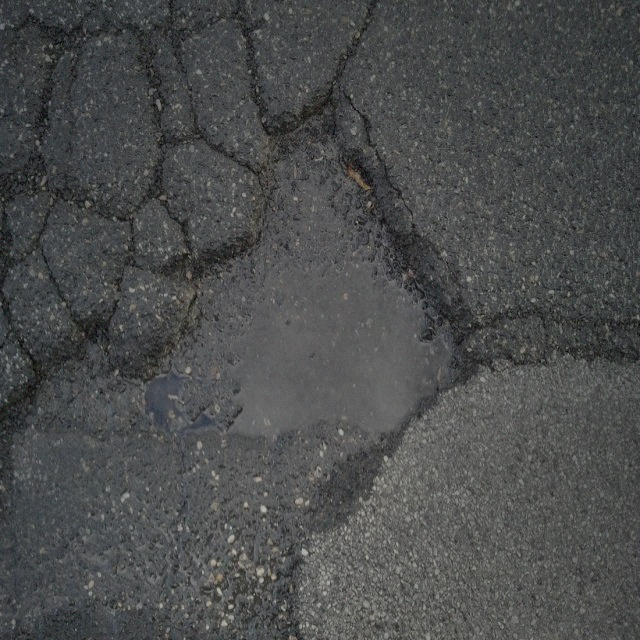pothole: (136, 99, 481, 452)
